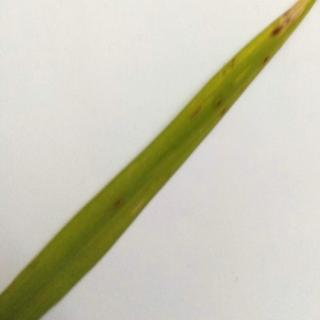bercak-Cokelat: (210, 95, 232, 124), (267, 24, 294, 44), (108, 192, 128, 212)
